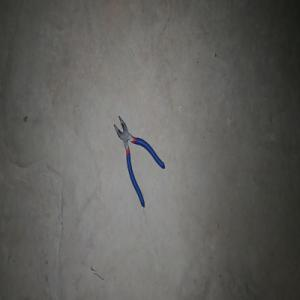Pliers: (113, 115, 165, 207)
